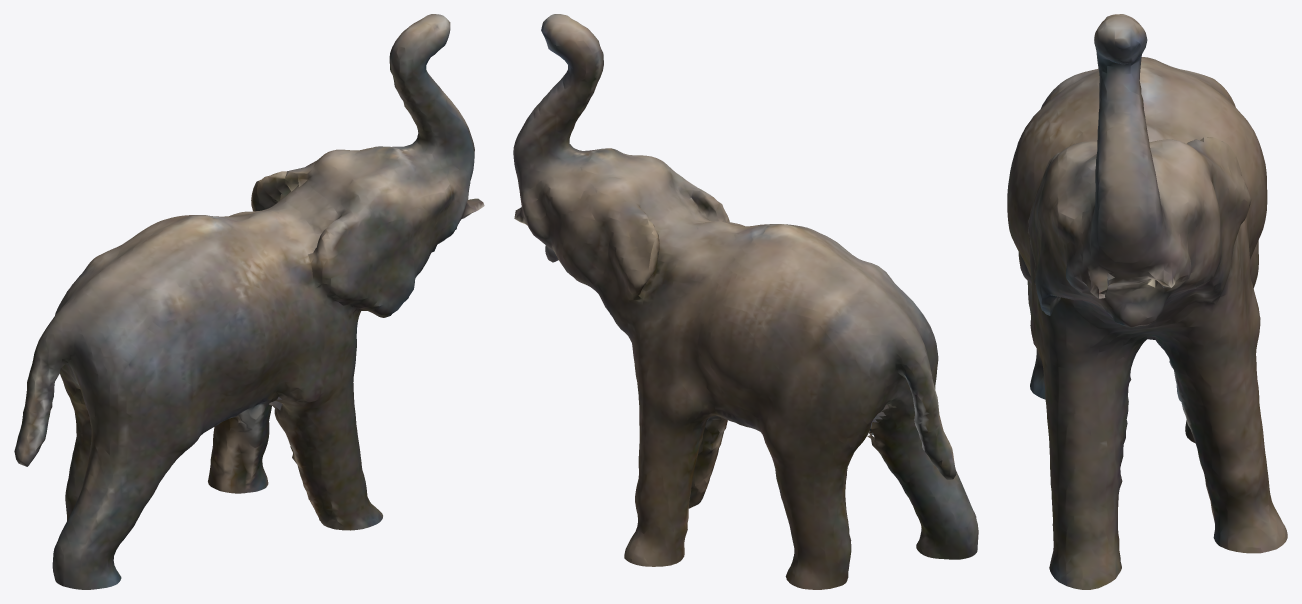
File: elephant_6f79dc49.glb
3 renders of one model, left to right at view 1: azimuth 30°, elevation 25°; view 2: azimuth 150°, elevation 25°; view 3: azimuth 270°, elevation 25°, orthographic. The views are drawn at different scales.
Parts seen in each view (by area): view 1: Geode; view 2: Geode; view 3: Geode.
Boxes of the visible parts, x1,y1,x2,y2 form: Geode: (14,14,484,589); Geode: (513,14,978,589); Geode: (1007,14,1287,589).
Bounding box in the file's own units: 0.3271 × 0.3266 × 0.1354.
